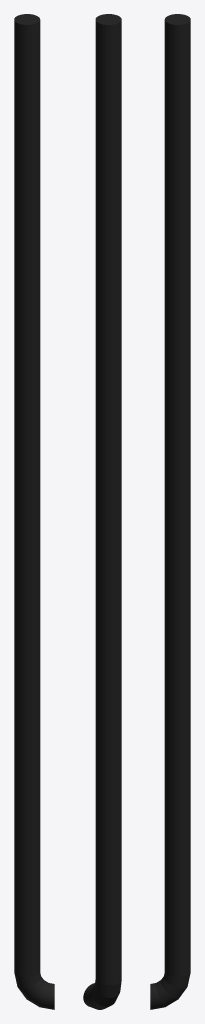
Rendered from Curved_Pipe.fbx.
3 views of the same model, side by side, from view 1: azimuth 90°, elevation 25°; view 2: azimuth 210°, elevation 25°; view 3: azimuth 270°, elevation 25° (orthographic).
Parts seen in each view (by area): view 1: Cylinder.001; view 2: Cylinder.001; view 3: Cylinder.001.
Boxes of the visible parts, left/top/right/bottom form: Cylinder.001: left=14, top=14, right=54, bottom=1009; Cylinder.001: left=83, top=14, right=121, bottom=1009; Cylinder.001: left=150, top=14, right=190, bottom=1009.
Bounding box in the file's own units: 9.74 × 409 × 15.21.
